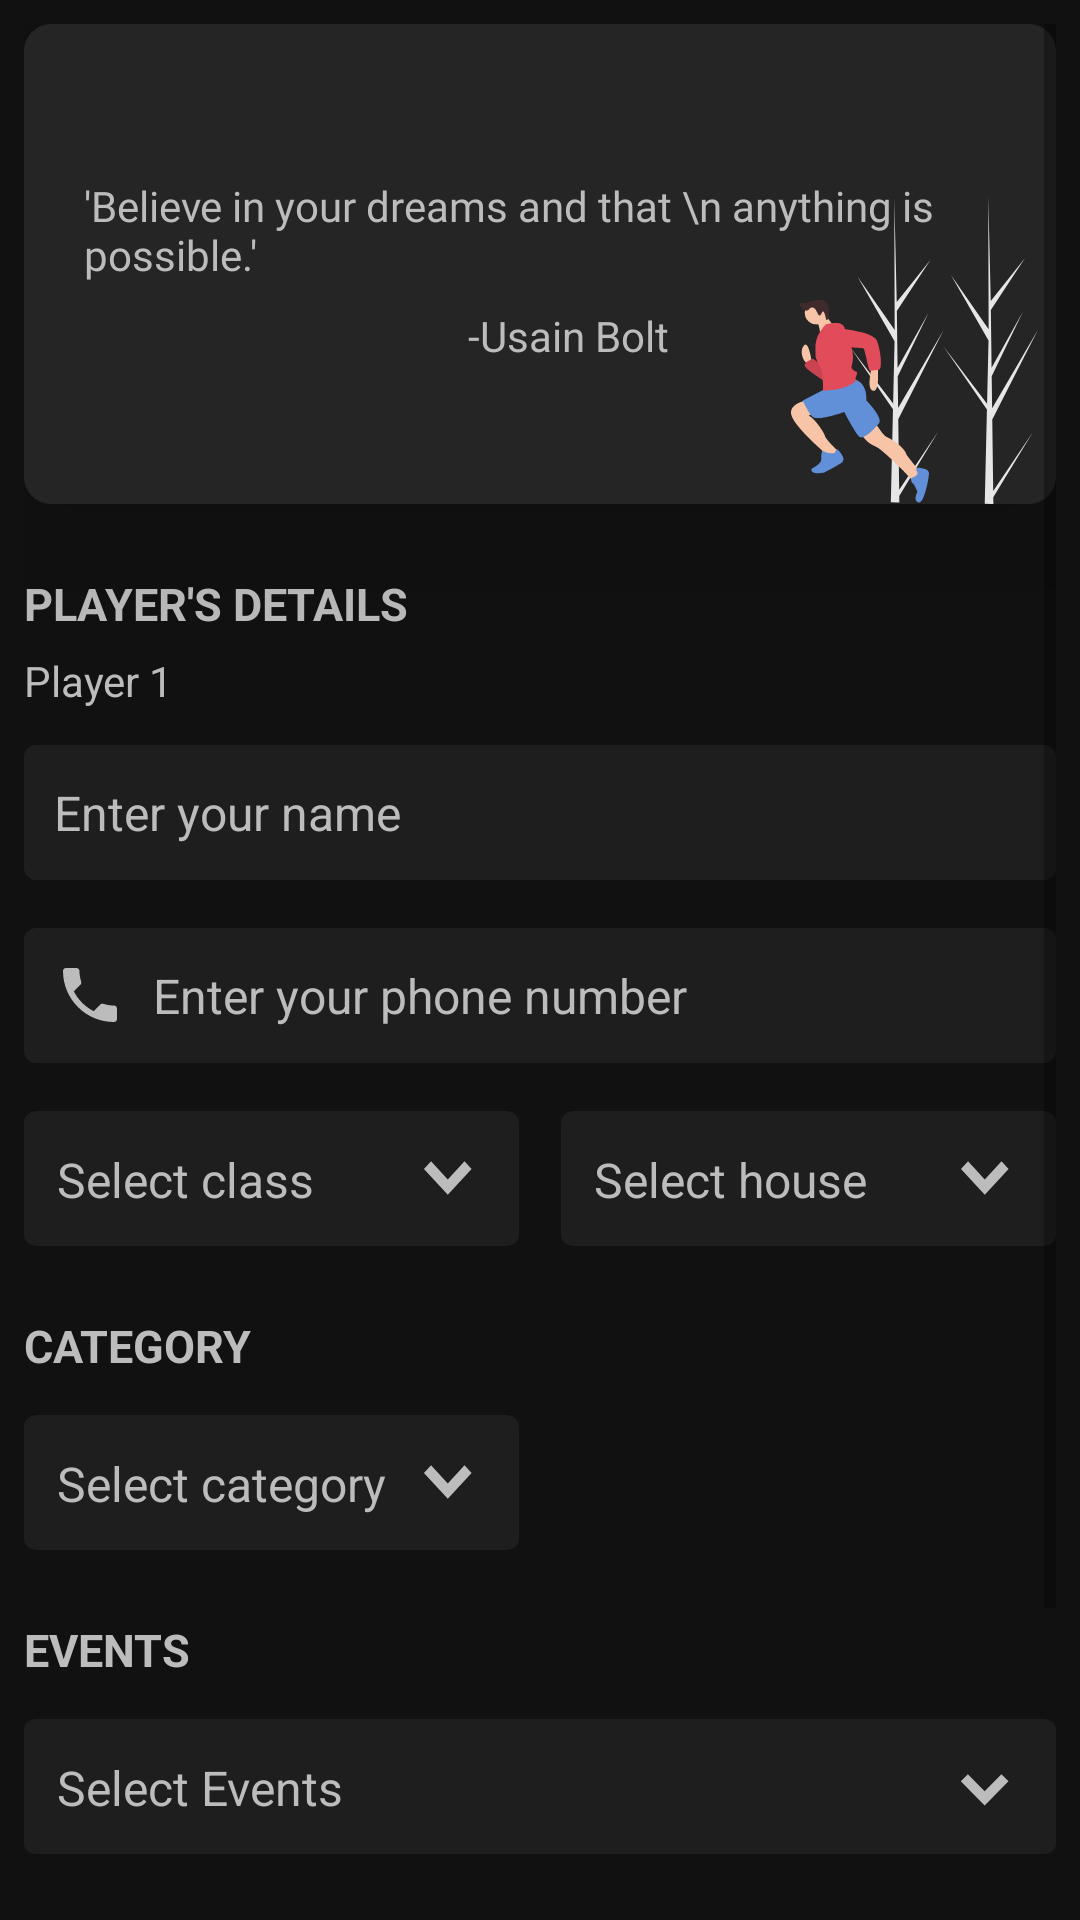

Locate icon controls on the screen. Image size 1080×1920, boxes as (x1, y1, x2, y2).
illustration: (791, 195, 1037, 504)
